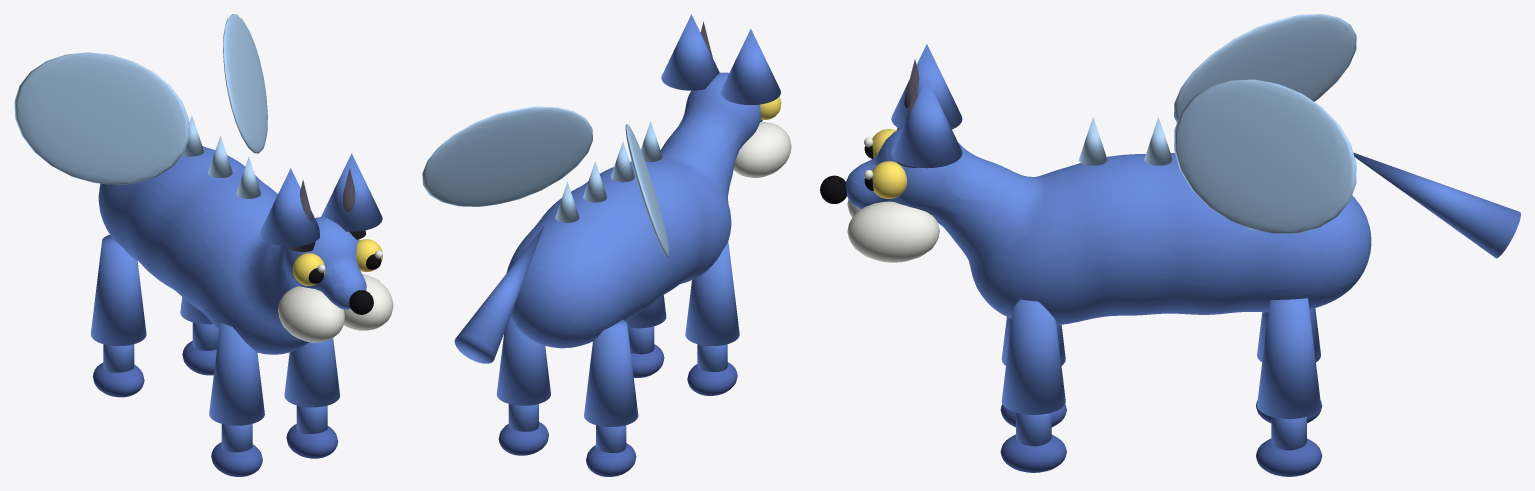
The model's file is Celestial Dragon.obj.
3 renders of one model, left to right at view 1: azimuth 30°, elevation 25°; view 2: azimuth 150°, elevation 25°; view 3: azimuth 270°, elevation 25°, orthographic. The views are drawn at different scales.
Visible parts, largest first — view 1: Celestial_Dragon; view 2: Celestial_Dragon; view 3: Celestial_Dragon.
Part boxes in pixels (x1=…): Celestial_Dragon: x1=14, y1=14, x2=393, y2=476; Celestial_Dragon: x1=422, y1=14, x2=791, y2=476; Celestial_Dragon: x1=820, y1=14, x2=1520, y2=476.
Size of the model in its own units: 2.72 by 3.68 by 5.9.
